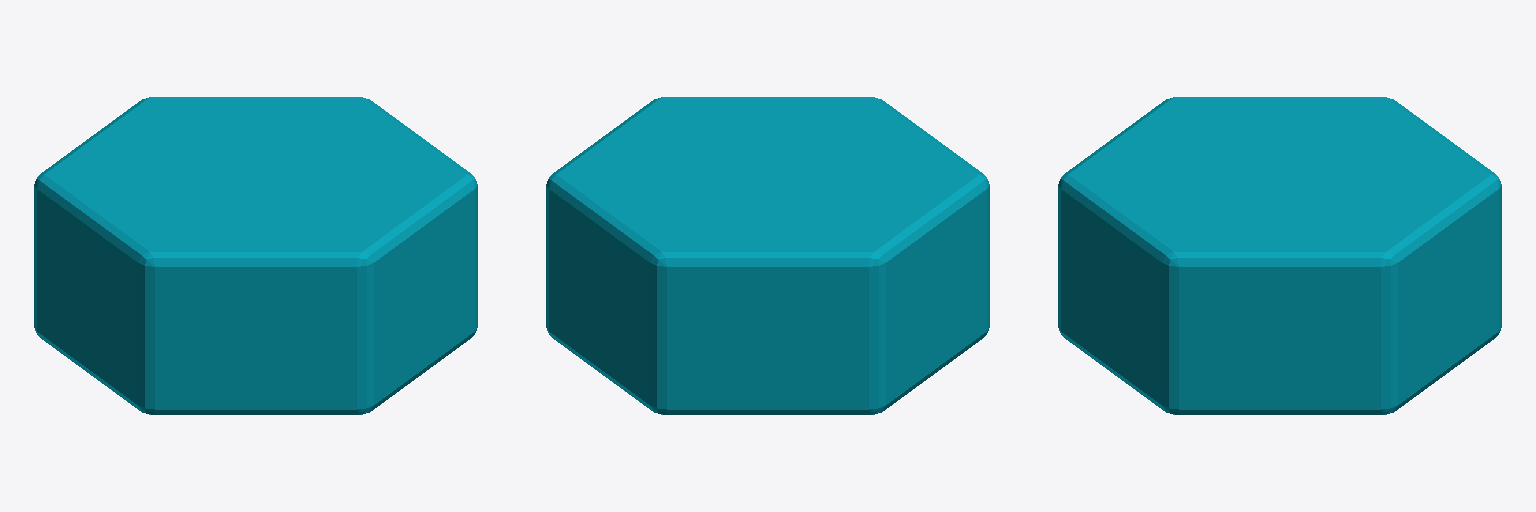
Rendered from water.obj.
3 views of the same model, side by side, from view 1: azimuth 30°, elevation 25°; view 2: azimuth 150°, elevation 25°; view 3: azimuth 270°, elevation 25° (orthographic).
Visible parts, largest first — view 1: water; view 2: water; view 3: water.
Part boxes in pixels (x1,y1,x2,y2): water: (34, 97, 477, 414); water: (546, 97, 989, 414); water: (1058, 97, 1501, 414).
Size of the model in its own units: 6.93 by 3.2 by 7.9.